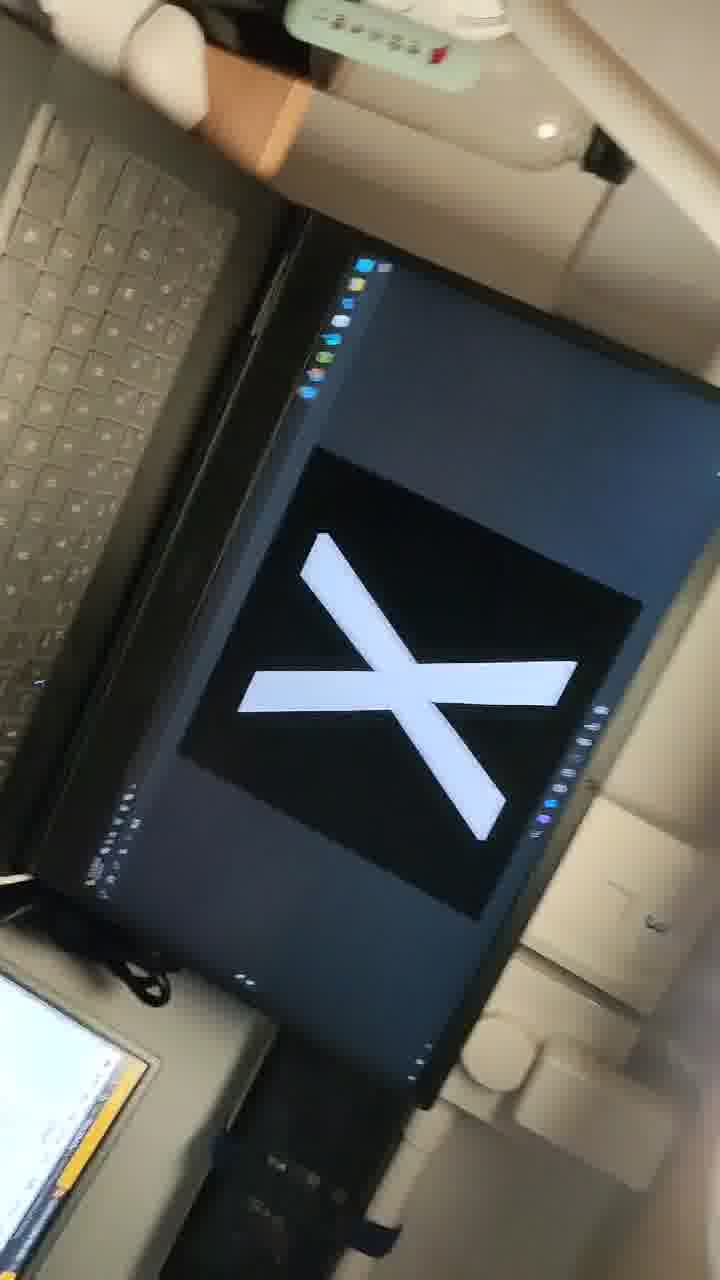X: (207, 494, 613, 899)
